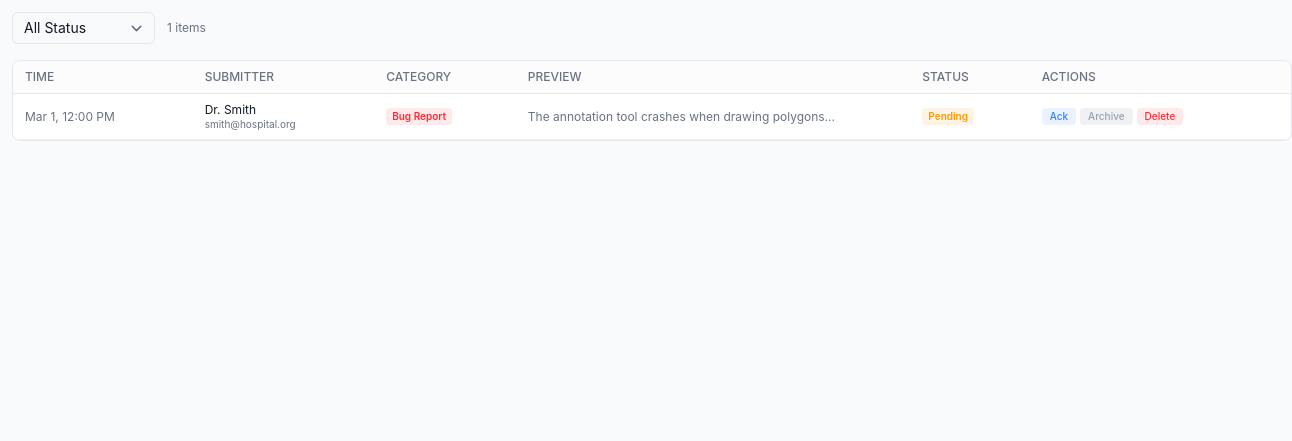
Admin Feedback Page › expand and detail › shows context JSON when expanded
Click the row that starts with "Mar 1, 12:00 PM" at (652, 117), box [13, 94, 1291, 140]
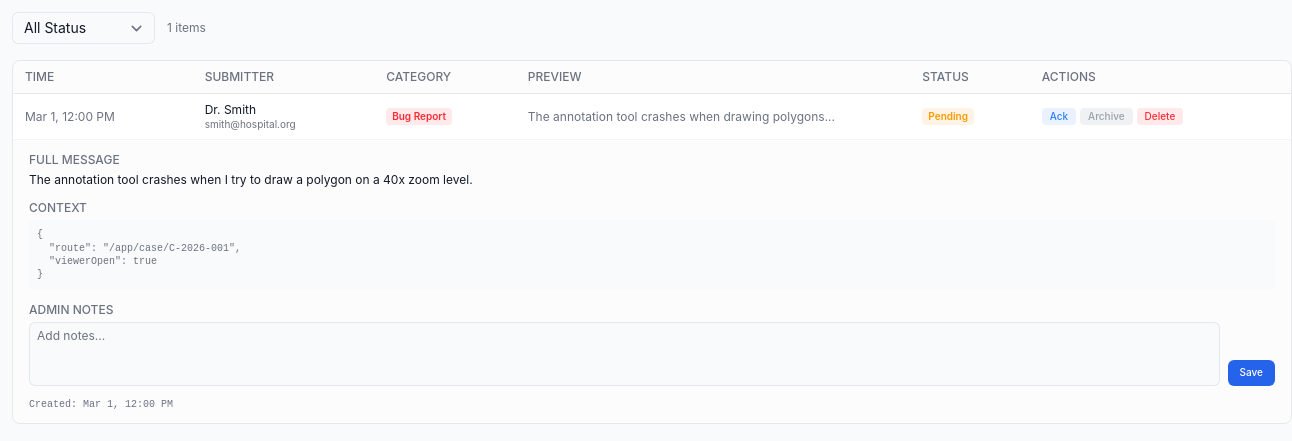
expect the text "/app/case/C-2026-001" is shown: met, box [37, 229, 241, 280]
expect the text "viewerOpen" is shown: met, box [37, 229, 241, 280]
